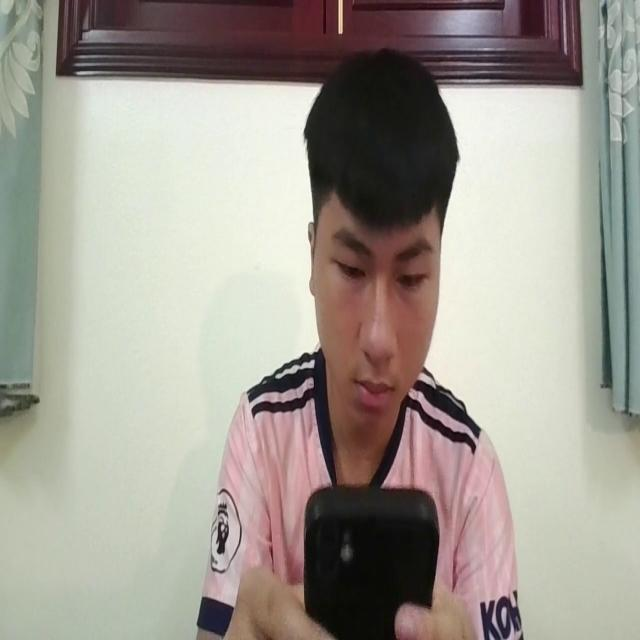phone: (303, 473, 443, 640)
student: (200, 54, 516, 640)
